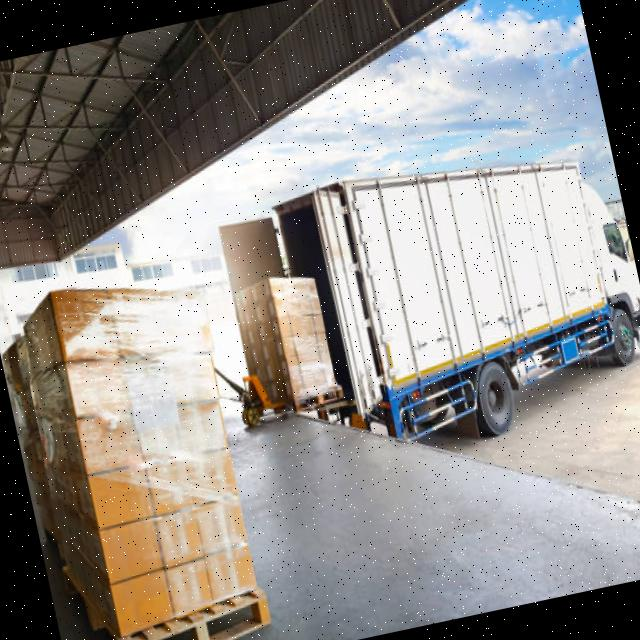Wooden-Pallets: (133, 591, 274, 640)
